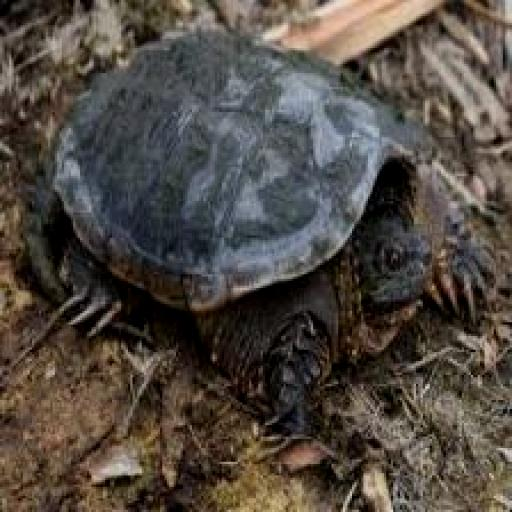turtle: (42, 19, 485, 404)
